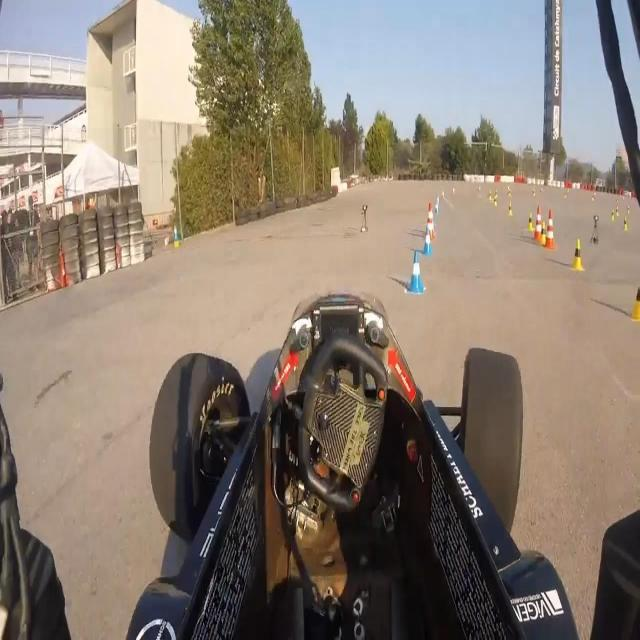blue_cone: (406, 250, 424, 294), (422, 228, 432, 255), (435, 200, 440, 215)
large_orange_cone: (544, 208, 556, 250), (533, 206, 544, 242), (426, 202, 436, 241)
yellow_cone: (570, 238, 584, 272), (628, 284, 640, 321), (538, 220, 547, 245), (527, 213, 535, 232), (623, 216, 629, 231), (508, 203, 513, 216), (488, 189, 492, 202), (493, 196, 497, 207), (611, 210, 615, 221), (616, 206, 620, 217)
